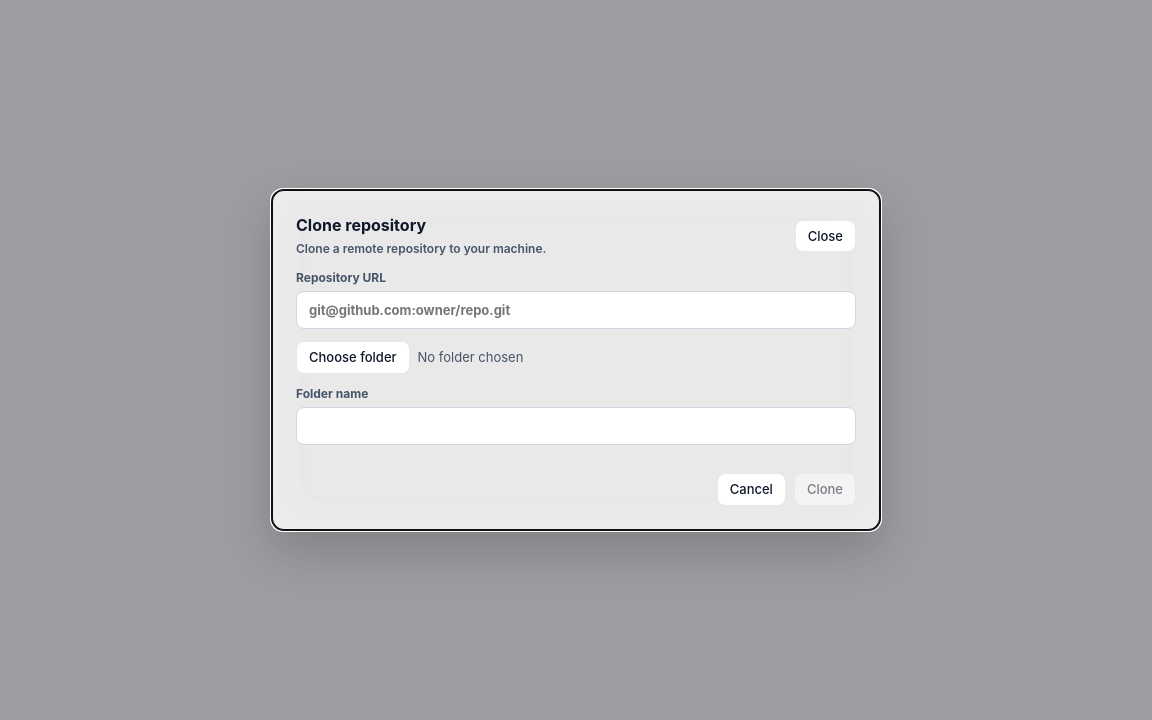
Scenario: CloneDialog › derives the folder name from the URL
This screenshot has width=1152, height=720.
In the field labelled "Repository URL": (576, 310) [296, 291, 856, 329], type "git@github.com:foo/bar.git"
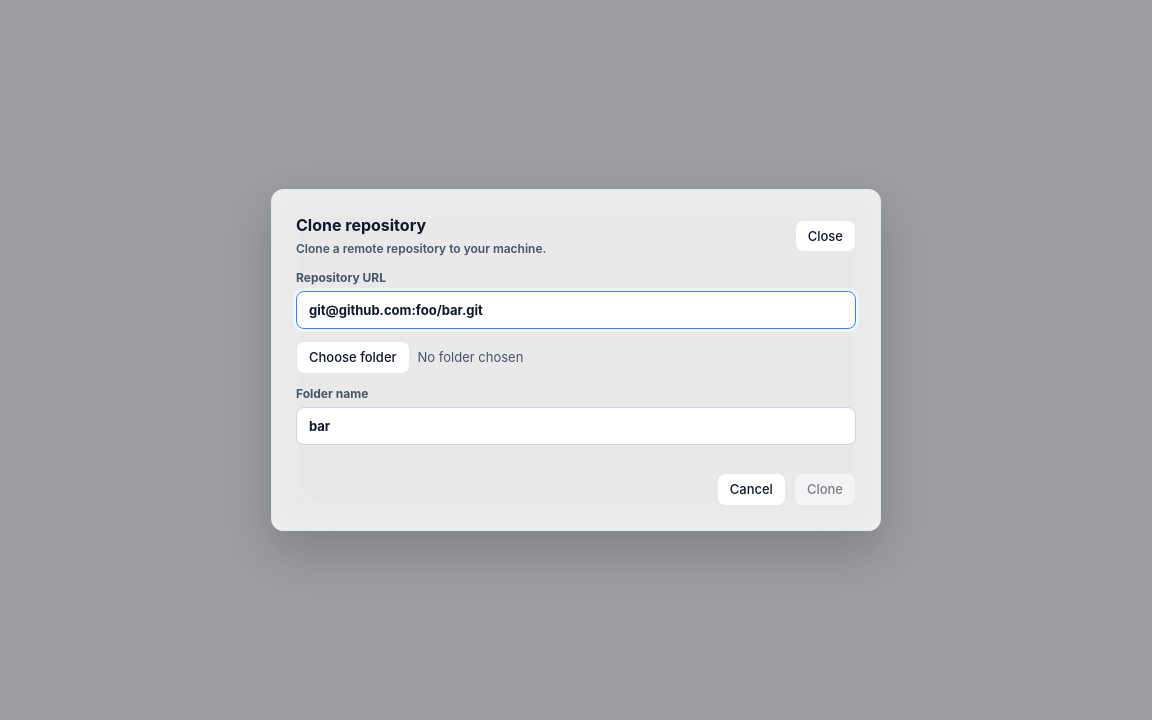
Click the button "Choose folder": (353, 358) [296, 341, 410, 374]
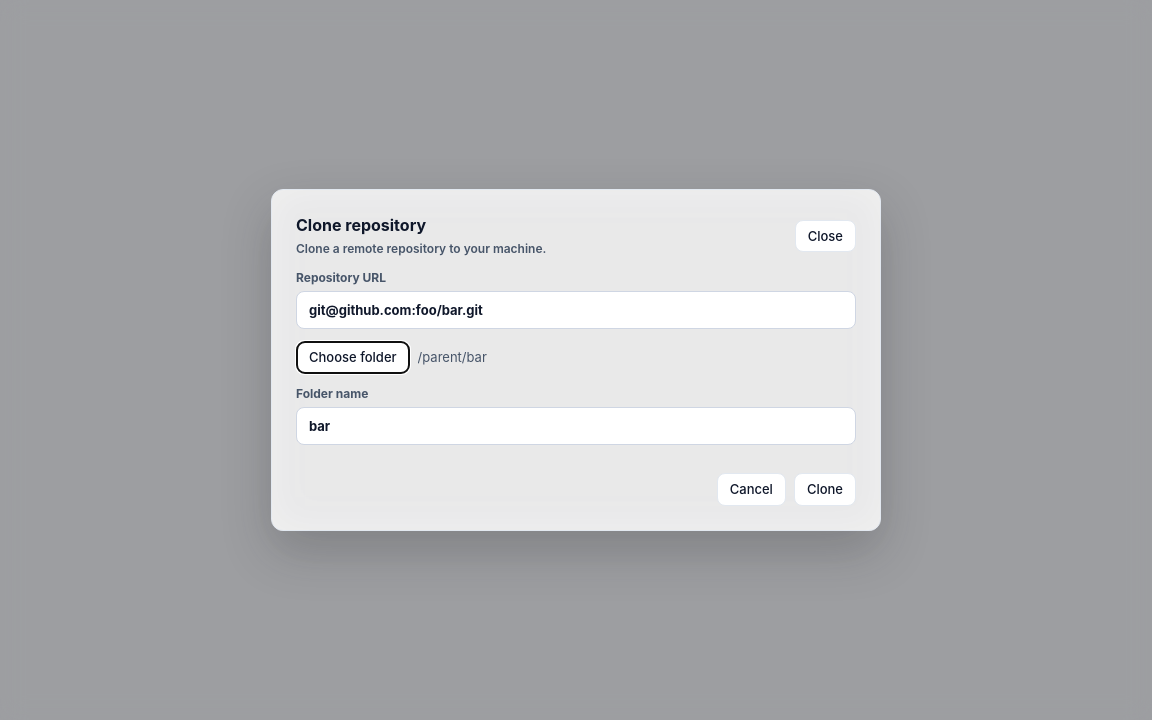
expect the text "/parent/bar" is shown: met, box [418, 349, 487, 365]
